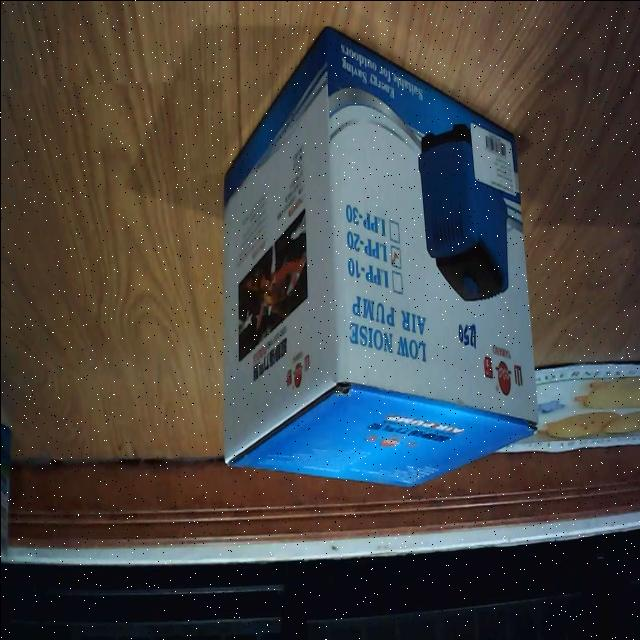YAMANO_LPP_20: (202, 14, 540, 498)
